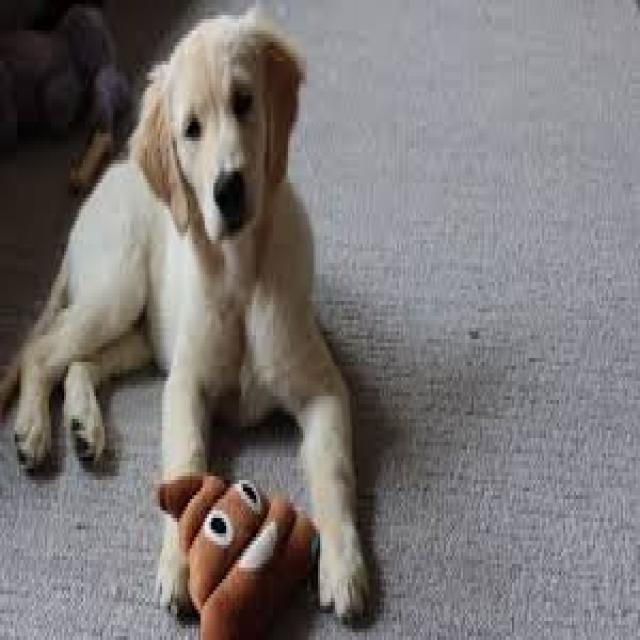Dog: (10, 4, 361, 513)
